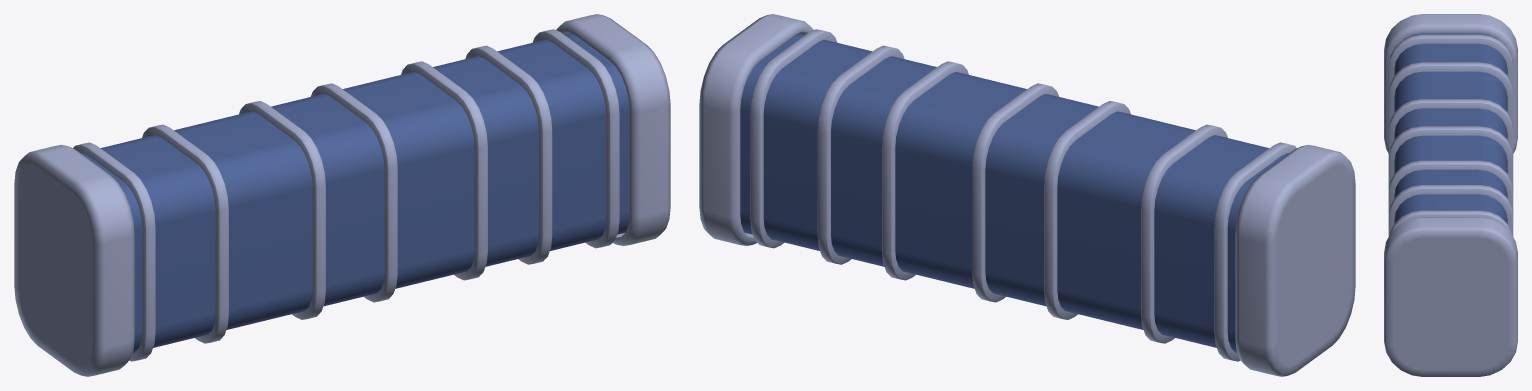
File: SM_Gateway.fbx
3 views of the same model, side by side, from view 1: azimuth 30°, elevation 25°; view 2: azimuth 150°, elevation 25°; view 3: azimuth 270°, elevation 25° (orthographic). The views are drawn at different scales.
Parts seen in each view (by area): view 1: SM_Gateway_01, SM_Gateway_01.002, SM_Gateway_01.001; view 2: SM_Gateway_01, SM_Gateway_01.002, SM_Gateway_01.001; view 3: SM_Gateway_01.002, SM_Gateway_01, SM_Gateway_01.001.
Part boxes in pixels (x1=…): SM_Gateway_01: x1=81, y1=33, x2=629, y2=352; SM_Gateway_01.002: x1=14, y1=14, x2=670, y2=376; SM_Gateway_01.001: x1=73, y1=29, x2=619, y2=361; SM_Gateway_01: x1=740, y1=33, x2=1288, y2=352; SM_Gateway_01.002: x1=699, y1=14, x2=1355, y2=376; SM_Gateway_01.001: x1=750, y1=29, x2=1296, y2=361; SM_Gateway_01.002: x1=1384, y1=14, x2=1517, y2=376; SM_Gateway_01: x1=1394, y1=33, x2=1507, y2=223; SM_Gateway_01.001: x1=1388, y1=34, x2=1513, y2=236.
Size of the model in its own units: 24.06 by 7.74 by 6.26.
